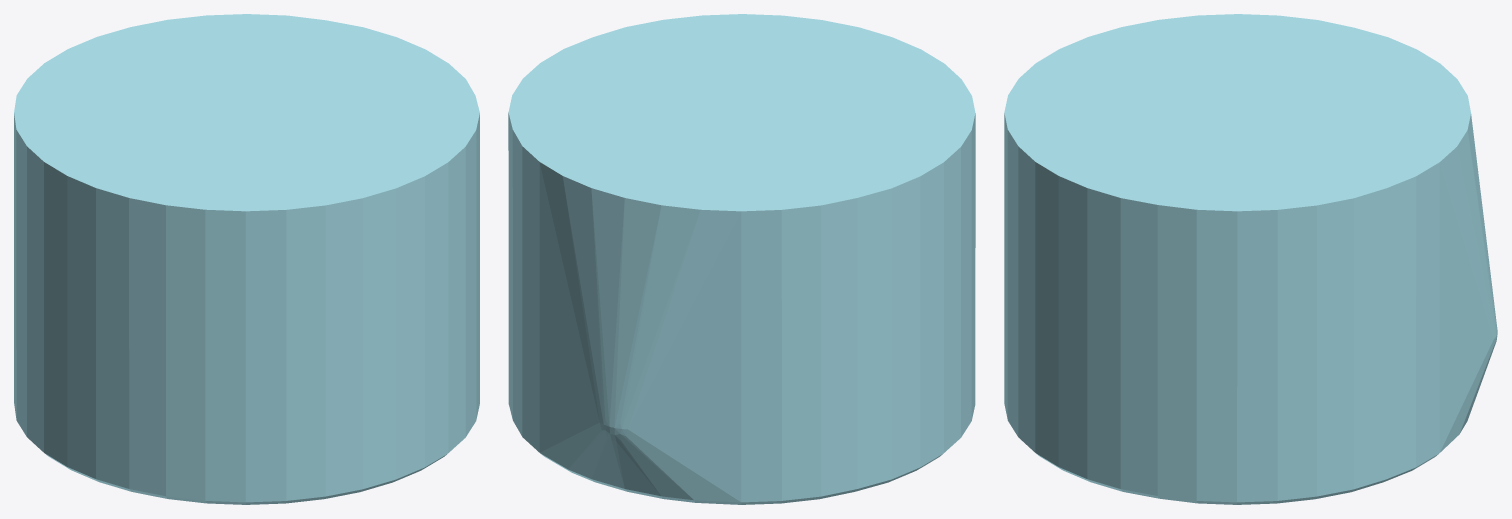
3 renders of one model, left to right at view 1: azimuth 30°, elevation 25°; view 2: azimuth 150°, elevation 25°; view 3: azimuth 270°, elevation 25°, orthographic.
Visible parts, largest first — view 1: UR20Link6; view 2: UR20Link6; view 3: UR20Link6.
Part boxes in pixels (x1=…): UR20Link6: x1=14, y1=14, x2=479, y2=504; UR20Link6: x1=508, y1=14, x2=975, y2=504; UR20Link6: x1=1004, y1=14, x2=1497, y2=504.
Size of the model in its own units: 0.1 by 0.1057 by 0.0699.
